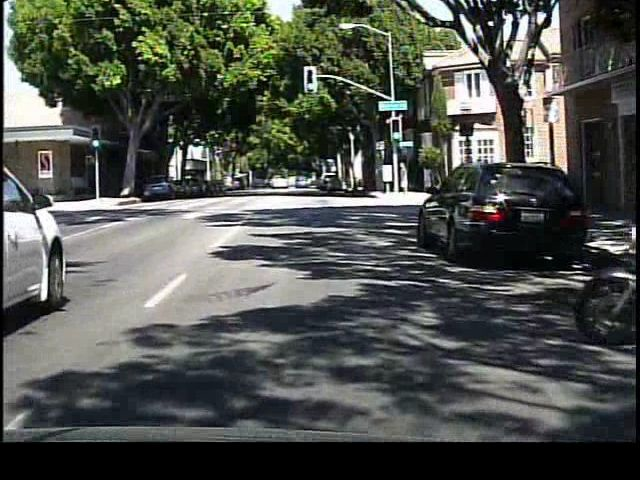person: (395, 157, 414, 195)
